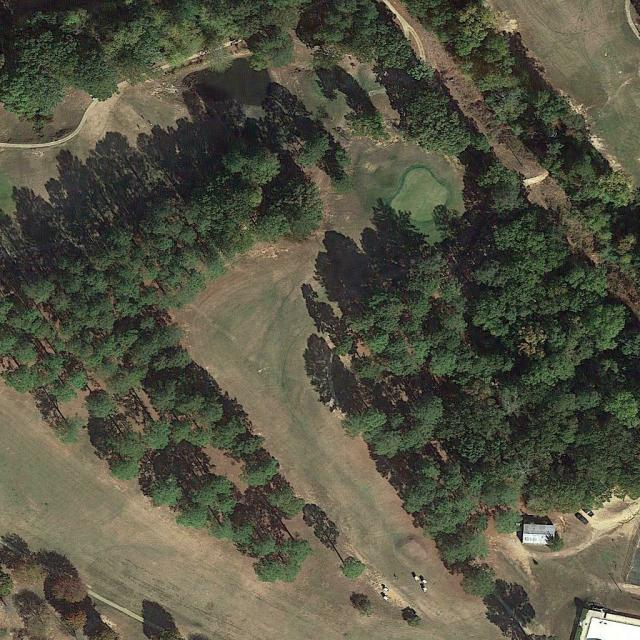small-vehicle: (580, 504, 595, 519), (574, 512, 589, 525)
